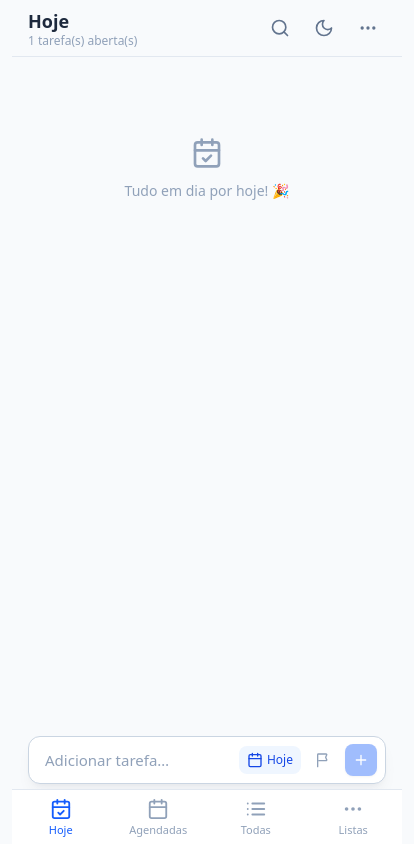
Test: App › navega para Agendadas e mostra grupos por data
Click the button "Agendadas". click: (158, 817)
box: [110,790,207,843]
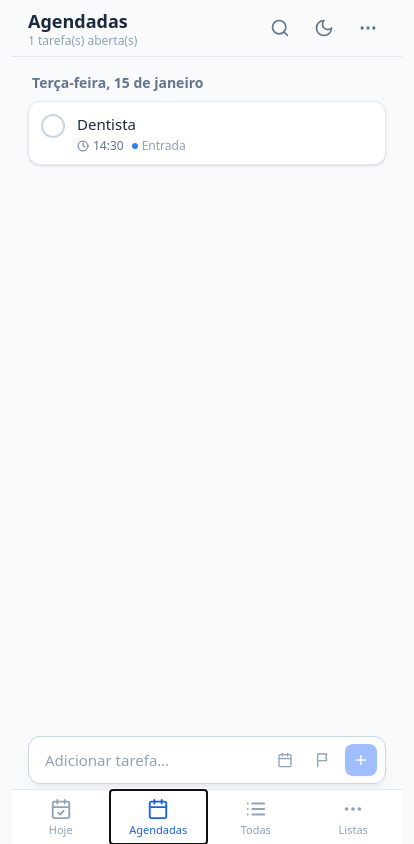
Expected: the heading "Agendadas" is shown, [28,9,128,33]
Expected: the text "Dentista" is shown, [77,114,136,134]
Expected: the text "14:30" is shown, [77,138,124,154]
